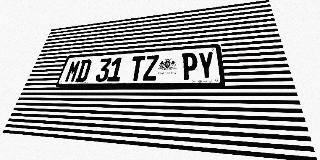1: (107, 57, 124, 81)
3: (95, 58, 112, 82)
D: (75, 59, 92, 82)
M: (64, 60, 82, 82)
P: (181, 52, 198, 80)
T: (128, 56, 145, 81)
Y: (198, 51, 215, 80)
Z: (142, 55, 159, 81)
